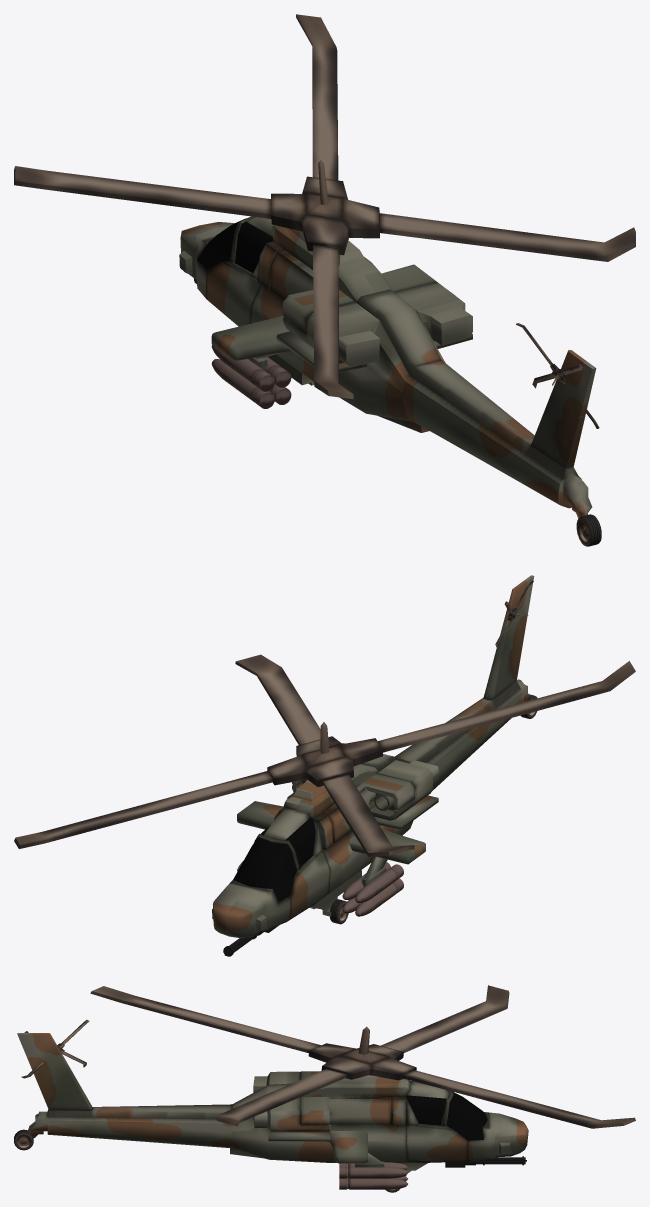
The model's file is Heri.FBX.
3 renders of one model, top to bottom at view 1: azimuth 30°, elevation 25°; view 2: azimuth 150°, elevation 25°; view 3: azimuth 270°, elevation 25°, orthographic. The views are drawn at different scales.
Parts seen in each view (by area): view 1: Box002, Plane003, Box004, Plane004; view 2: Box002, Plane003, Box004; view 3: Box002, Plane003, Box004, Box003, Plane004, オブジェクト002.
Part boxes in pixels (x1=…): Box002: x1=179, y1=216, x2=596, y2=518; Plane003: x1=14, y1=14, x2=635, y2=399; Box004: x1=211, y1=344, x2=291, y2=408; Plane004: x1=516, y1=323, x2=599, y2=428; Box002: x1=212, y1=575, x2=534, y2=938; Plane003: x1=14, y1=654, x2=635, y2=857; Box004: x1=237, y1=861, x2=403, y2=916; Box002: x1=17, y1=1033, x2=528, y2=1172; Plane003: x1=90, y1=985, x2=635, y2=1128; Box004: x1=339, y1=1162, x2=407, y2=1189; Box003: x1=445, y1=1156, x2=526, y2=1167; Plane004: x1=21, y1=1019, x2=89, y2=1078; オブジェクト002: x1=14, y1=1129, x2=33, y2=1150.
Bounding box in the file's own units: 102 × 54.02 × 201.
